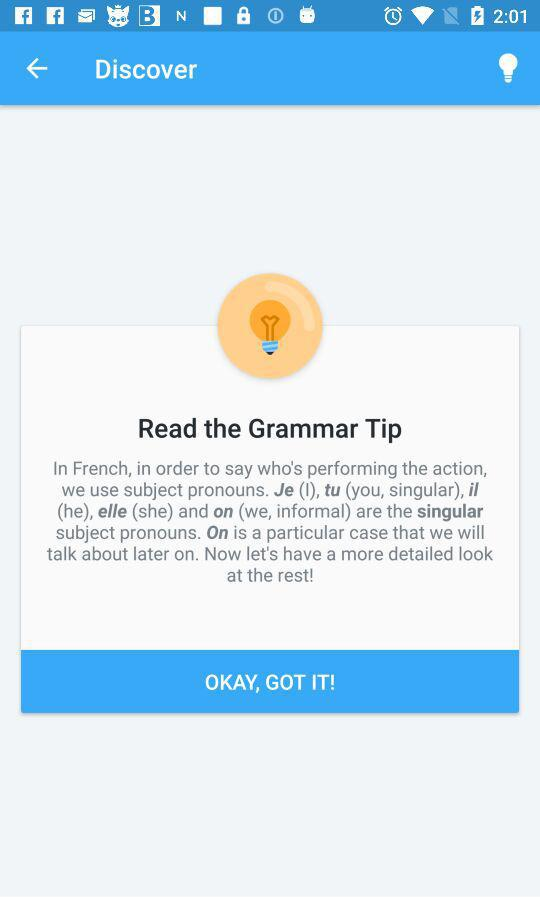Card: (21, 325, 521, 714)
Icon: (26, 58, 49, 80)
Image: (217, 273, 324, 380), (497, 53, 518, 84)
Text: (46, 459, 494, 584), (139, 417, 402, 445), (96, 59, 198, 81)
TextButton: (22, 650, 519, 713)
Toolbar: (1, 32, 540, 106)
UpperTaskBar: (1, 1, 540, 33)
